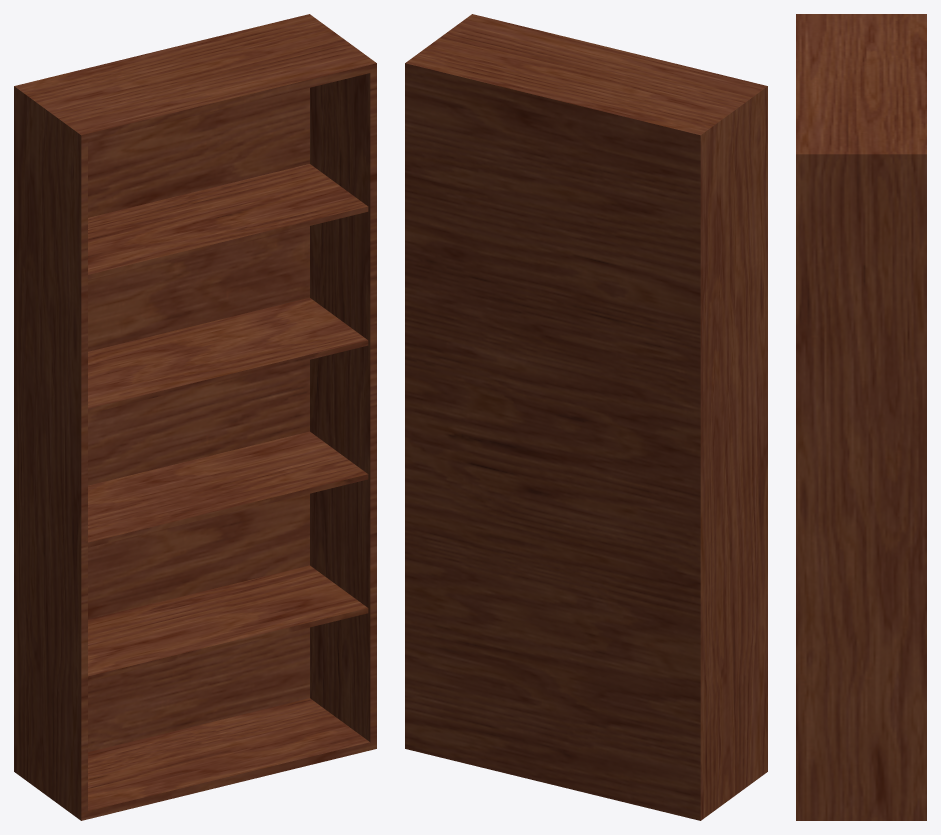
File: MuebleMetal.fbx
3 renders of one model, left to right at view 1: azimuth 30°, elevation 25°; view 2: azimuth 150°, elevation 25°; view 3: azimuth 270°, elevation 25°, orthographic. The views are drawn at different scales.
Parts seen in each view (by area): view 1: hillur_EHH; view 2: hillur_EHH; view 3: hillur_EHH.
Boxes of the visible parts, left/top/right/bottom form: hillur_EHH: left=14, top=14, right=376, bottom=820; hillur_EHH: left=405, top=14, right=767, bottom=820; hillur_EHH: left=796, top=14, right=926, bottom=820.
Bounding box in the file's own units: 89.4 × 198 × 35.21.
